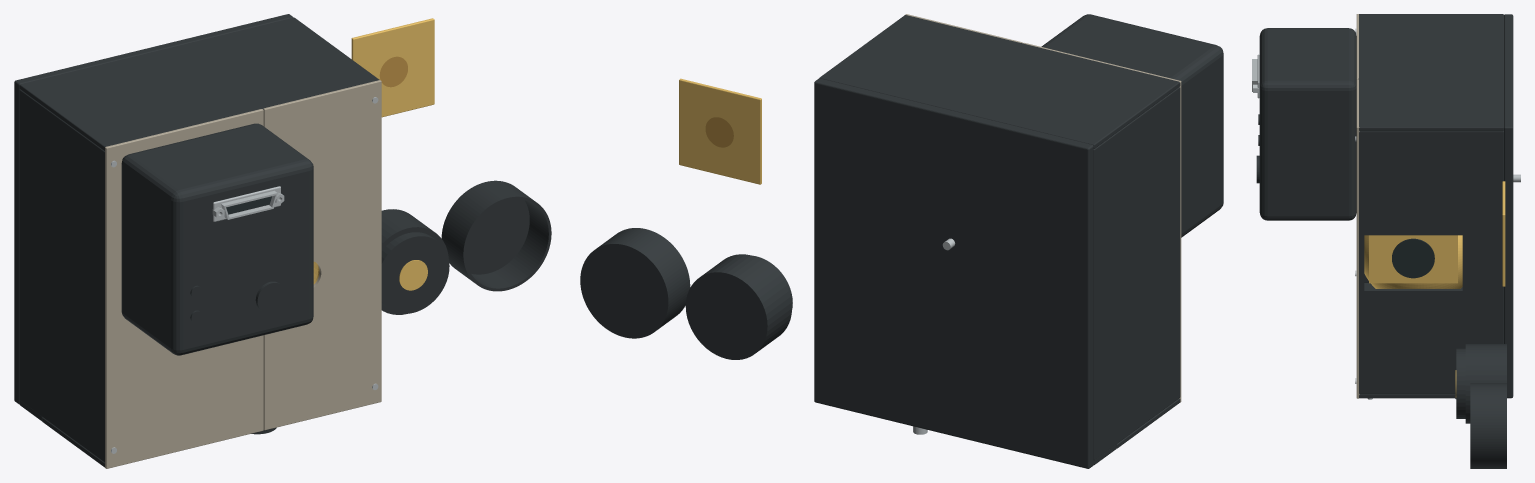
Rendered from prepared_pike.glb.
The picture shows the model from 3 angles, left to right: view 1: azimuth 30°, elevation 25°; view 2: azimuth 150°, elevation 25°; view 3: azimuth 270°, elevation 25°; orthographic projection. The views are drawn at different scales.
Parts seen in each view (by area): view 1: detector_enclosure, top_sample_panel, left_panel, rear_panel, top_left_panel, reference_protective_cap, optional_sample_plate, gold_reference_shoulder, module_base, gold_reference_holder, detector_top_access_cap, diffuse_gold_reference_face (+2 smaller); view 2: module_base, left_panel, rear_panel, detector_enclosure, reference_protective_cap, gold_reference_holder, optional_sample_plate, top_left_panel, optional_ZnSe_window; view 3: right_panel, detector_enclosure, rear_panel, module_base, reference_protective_cap, right_recess_gold_plate, gold_reference_holder, right_optical_window, gold_sphere_shell, top_sample_panel, gold_reference_shoulder, front_panel (+1 smaller).
Boxes of the visible parts, <box> form: detector_enclosure: <box>121,123,313,355</box>; top_sample_panel: <box>263,80,381,430</box>; left_panel: <box>19,89,104,462</box>; rear_panel: <box>19,17,379,150</box>; top_left_panel: <box>105,109,263,468</box>; reference_protective_cap: <box>441,180,551,291</box>; optional_sample_plate: <box>351,18,434,117</box>; gold_reference_shoulder: <box>381,232,449,313</box>; module_base: <box>14,14,293,404</box>; gold_reference_holder: <box>381,209,448,314</box>; detector_top_access_cap: <box>255,281,285,313</box>; diffuse_gold_reference_face: <box>399,260,427,290</box>; module_base: <box>814,78,1093,468</box>; left_panel: <box>1093,87,1180,460</box>; rear_panel: <box>819,15,1180,148</box>; detector_enclosure: <box>1041,14,1223,237</box>; reference_protective_cap: <box>580,228,690,338</box>; gold_reference_holder: <box>685,254,791,359</box>; optional_sample_plate: <box>679,78,761,184</box>; top_left_panel: <box>1023,43,1181,402</box>; optional_ZnSe_window: <box>705,117,733,147</box>; right_panel: <box>1359,131,1503,394</box>; detector_enclosure: <box>1259,28,1356,220</box>; rear_panel: <box>1358,14,1503,131</box>; module_base: <box>1504,14,1513,398</box>; reference_protective_cap: <box>1470,383,1506,468</box>; right_recess_gold_plate: <box>1369,235,1457,283</box>; gold_reference_holder: <box>1465,344,1506,423</box>; right_optical_window: <box>1392,238,1434,278</box>; gold_sphere_shell: <box>1364,235,1462,288</box>; top_sample_panel: <box>1356,79,1359,398</box>; gold_reference_shoulder: <box>1456,348,1465,418</box>; front_panel: <box>1359,282,1462,398</box>.
Size of the model in its own units: 0.3255 by 0.2142 by 0.175.
